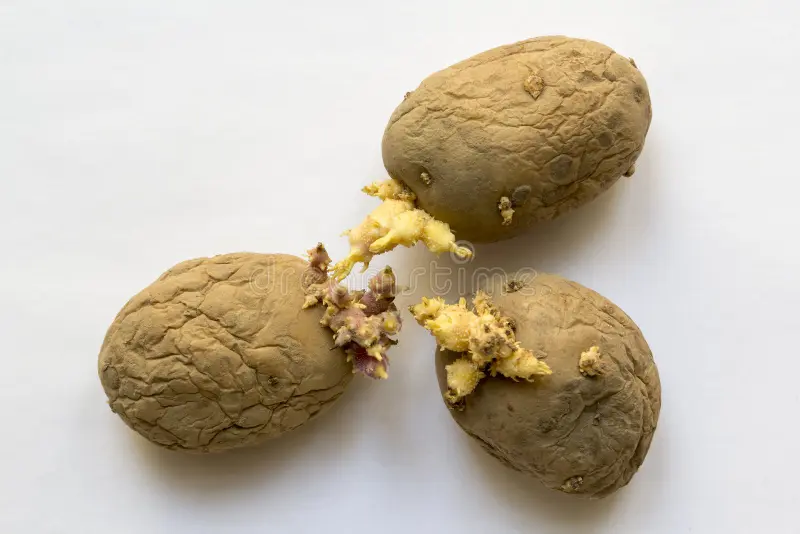potato rotten: (84, 239, 377, 438)
